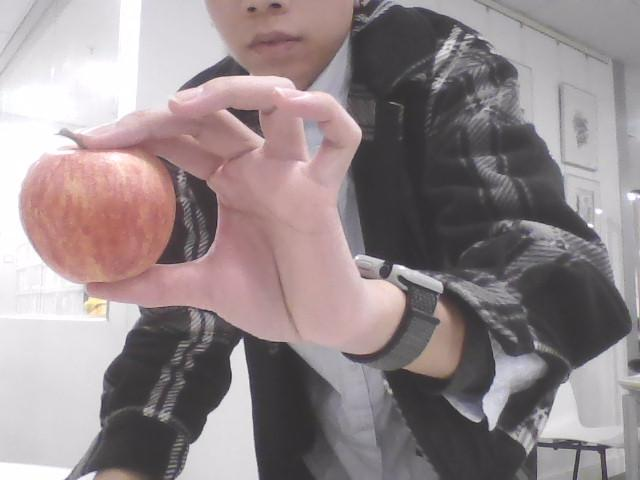apple: (19, 126, 179, 286)
